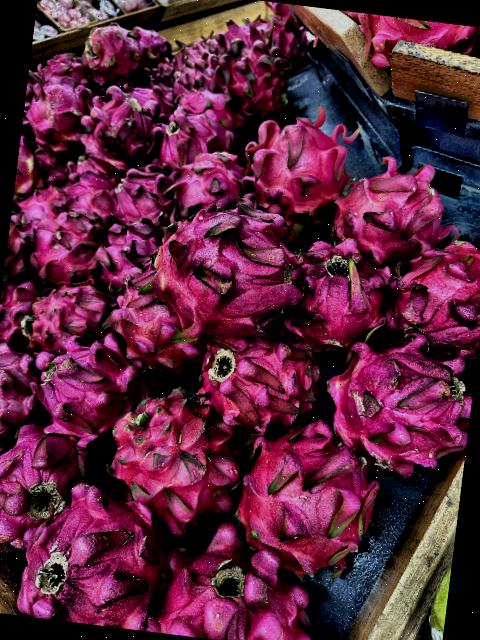buah-naga-matang: (138, 190, 310, 350), (227, 417, 386, 580), (314, 323, 479, 476), (24, 473, 179, 633), (158, 505, 335, 640), (100, 382, 248, 522), (235, 104, 360, 226), (282, 227, 394, 360), (0, 413, 103, 557), (30, 332, 154, 447), (333, 158, 460, 269), (380, 235, 480, 370), (100, 264, 214, 380), (190, 332, 322, 429), (28, 206, 115, 290), (209, 38, 302, 116), (354, 12, 474, 70), (16, 281, 114, 348), (22, 82, 100, 164), (88, 86, 162, 170), (0, 332, 53, 441), (169, 150, 256, 215), (80, 16, 156, 88), (92, 212, 164, 286), (156, 101, 227, 160), (110, 170, 174, 230), (55, 168, 123, 218), (0, 282, 37, 348), (14, 133, 48, 200), (17, 182, 66, 226), (4, 210, 32, 274)
